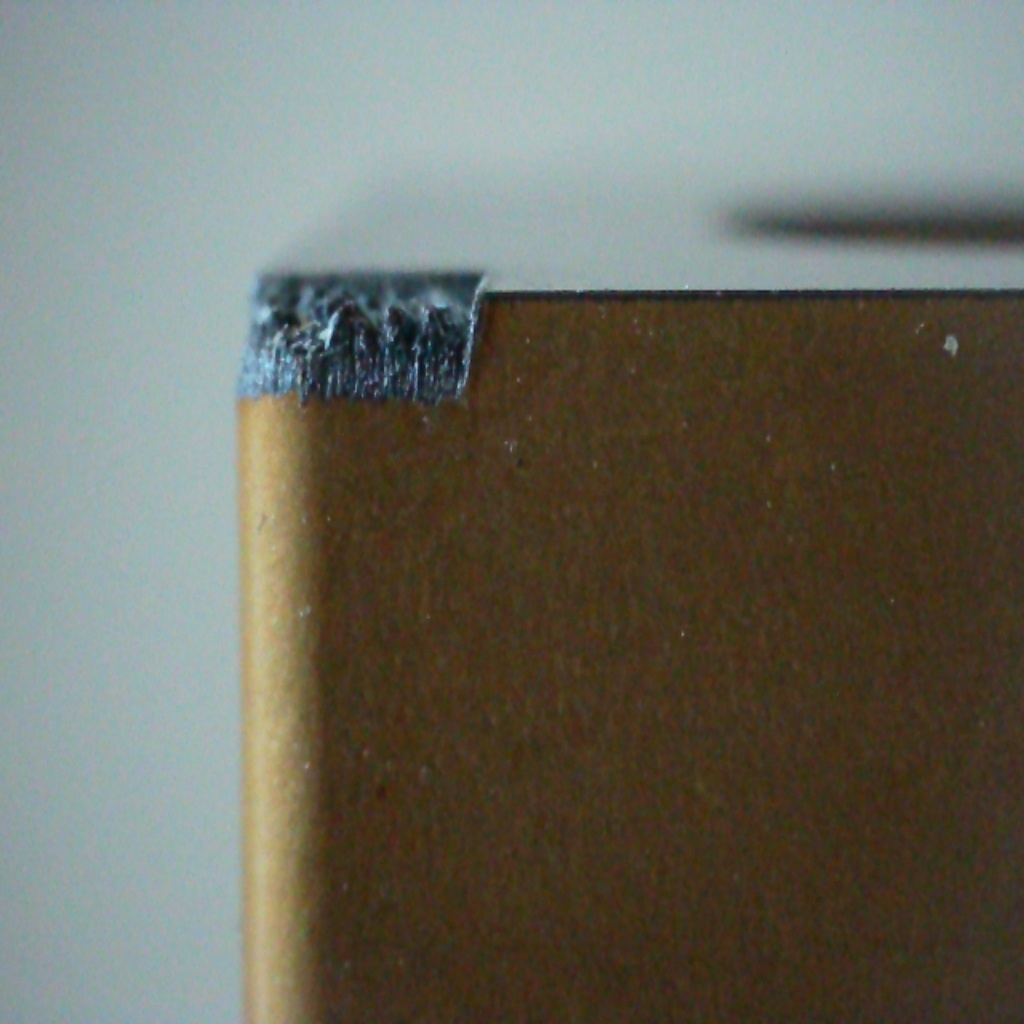flank_wear: (240, 353, 477, 420)
